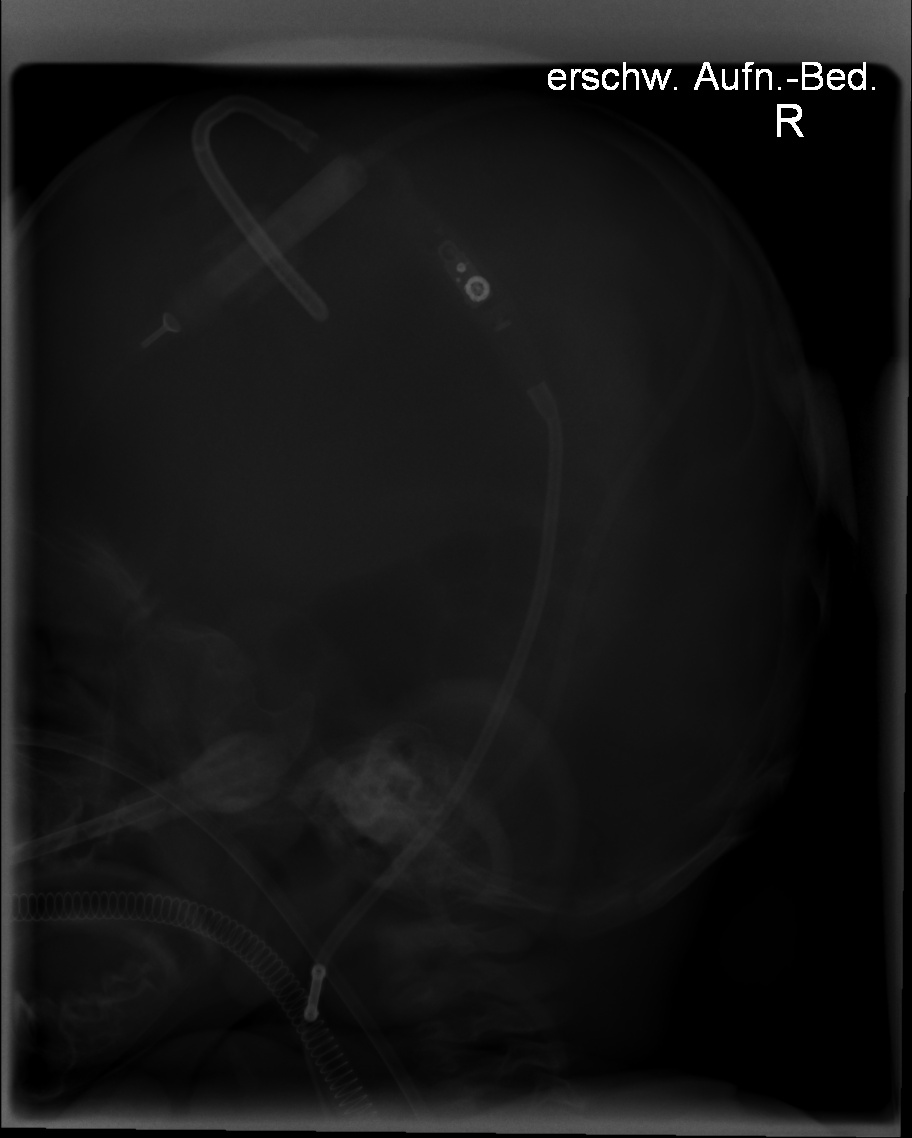Codman Hakim: (443, 256, 497, 319)
